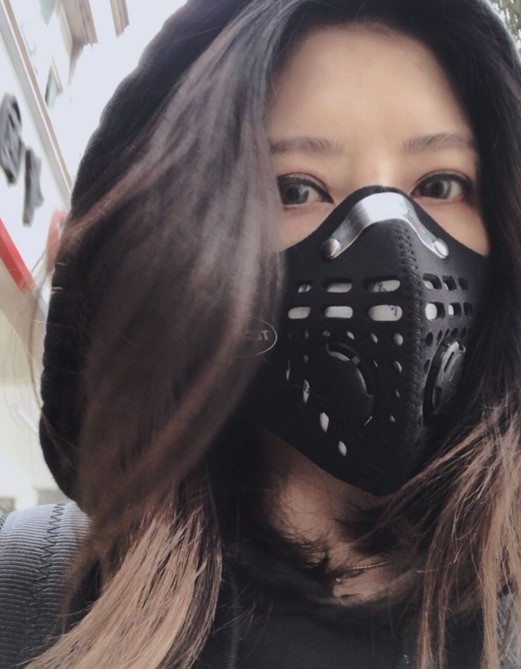face_with_mask: (125, 5, 519, 496)
